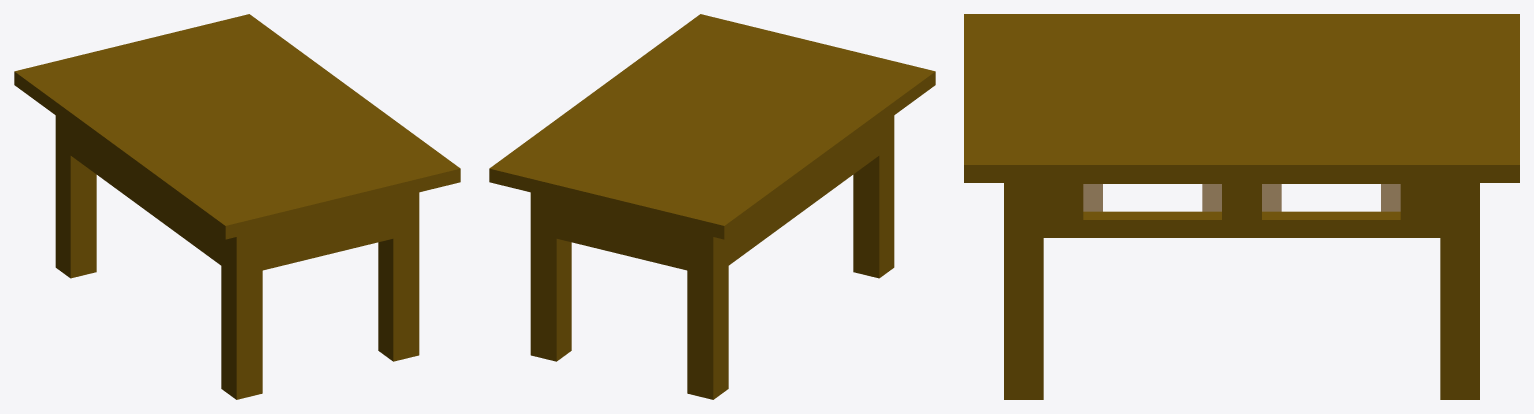
File: Desk00-Frame.gltf
3 renders of one model, left to right at view 1: azimuth 30°, elevation 25°; view 2: azimuth 150°, elevation 25°; view 3: azimuth 270°, elevation 25°, orthographic. The views are drawn at different scales.
Bounding box in the file's own units: 18 × 14 × 28.
